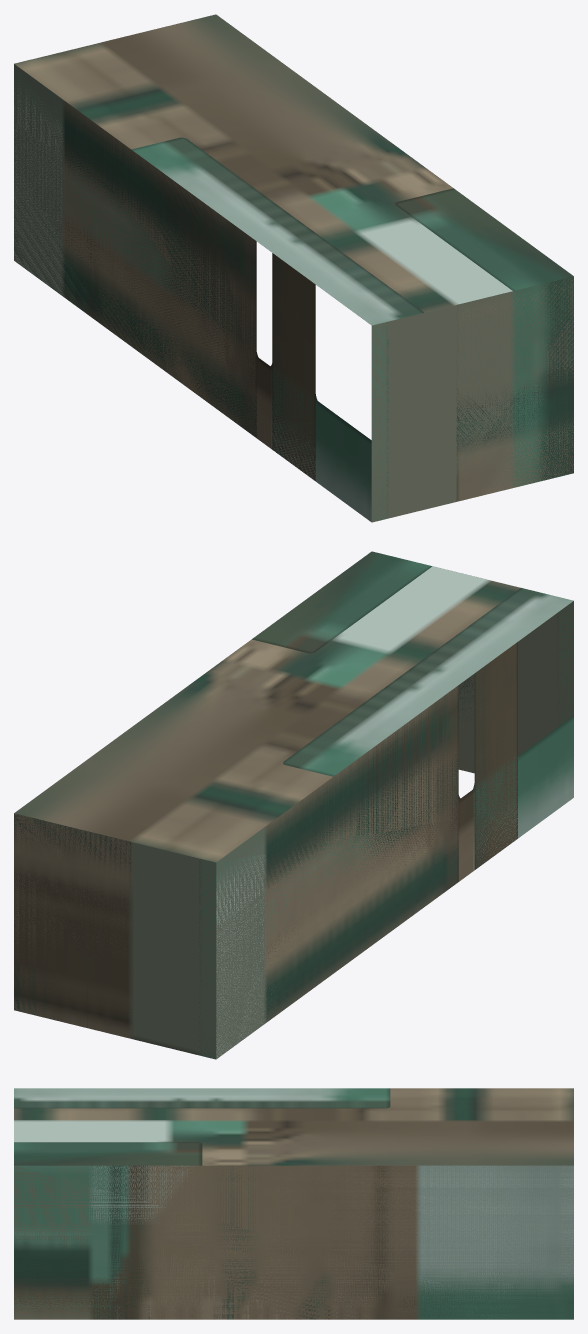
File: section-4.obj
The picture shows the model from 3 angles, top to bottom: view 1: azimuth 30°, elevation 25°; view 2: azimuth 150°, elevation 25°; view 3: azimuth 270°, elevation 25°; orthographic projection. The views are drawn at different scales.
Bounding box in the file's own units: 0.602 × 0.5606 × 1.85.
